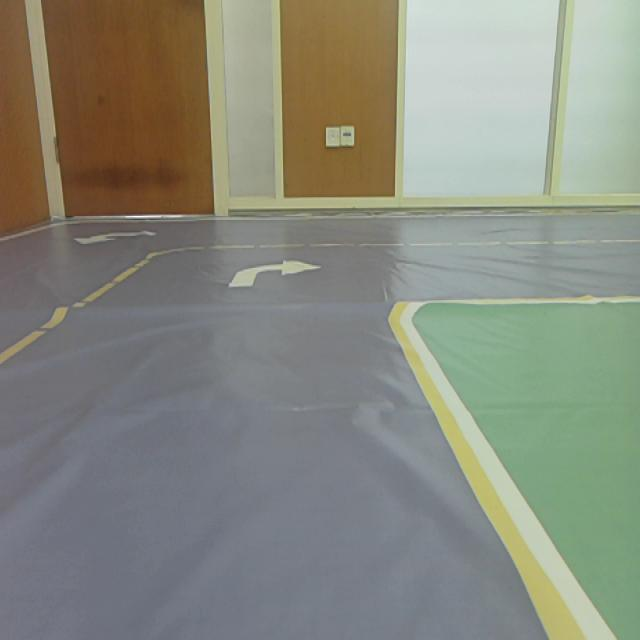left_lane: (0, 250, 155, 367)
right_lane: (389, 321, 587, 639)
